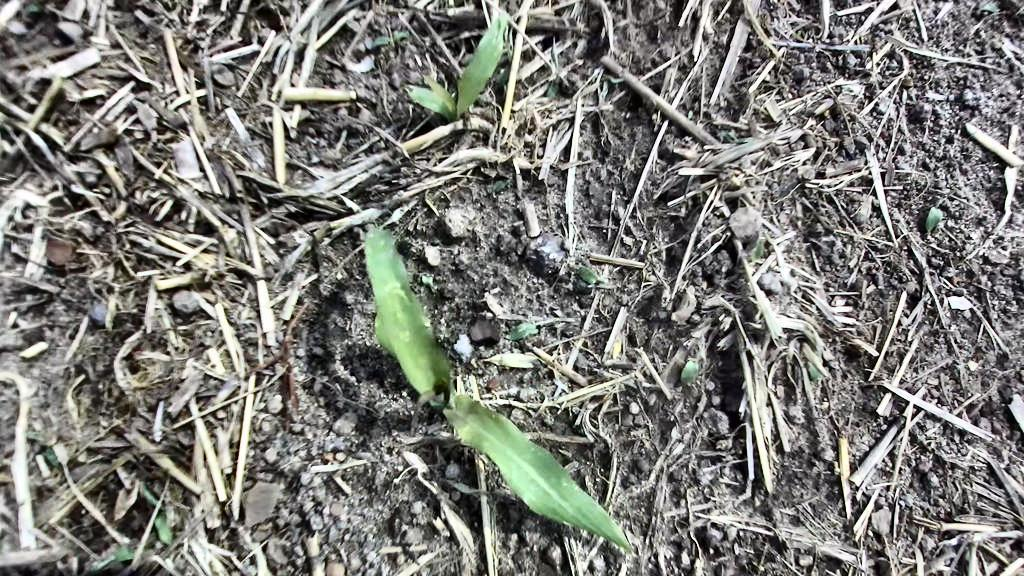BroWeed: (136, 477, 179, 548), (86, 542, 136, 576), (493, 43, 518, 91), (566, 261, 608, 289), (591, 66, 625, 100), (443, 478, 489, 502), (918, 203, 949, 234), (502, 319, 539, 343), (675, 358, 702, 390), (716, 127, 753, 149), (370, 29, 410, 49), (542, 75, 566, 102), (41, 445, 64, 469), (25, 430, 57, 446), (752, 232, 767, 264), (488, 173, 510, 193), (420, 272, 437, 297), (806, 359, 824, 381), (547, 42, 559, 69), (354, 40, 370, 56), (790, 28, 804, 44), (364, 36, 376, 51), (687, 109, 695, 120)
Maize: (298, 218, 635, 576)
